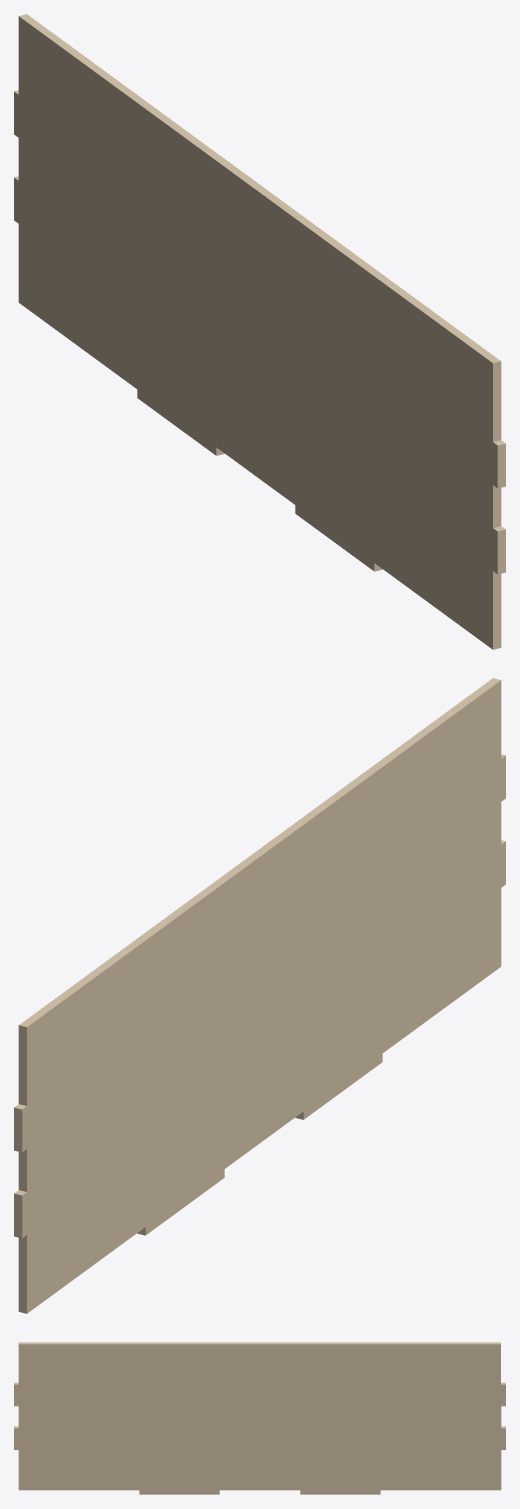
File: box-finger-joints-boxprojectfinger-front.glb
3 views of the same model, one above another, from view 1: azimuth 30°, elevation 25°; view 2: azimuth 150°, elevation 25°; view 3: azimuth 270°, elevation 25° (orthographic). The views are drawn at different scales.
Visible parts, largest first — view 1: Front; view 2: Front; view 3: Front.
Part boxes in pixels (box(x1,y1,x2,y2)): Front: box(14, 14, 505, 649); Front: box(14, 678, 505, 1313); Front: box(14, 1342, 505, 1494).
Size of the model in its own units: 0.006 by 0.206 by 0.612.
